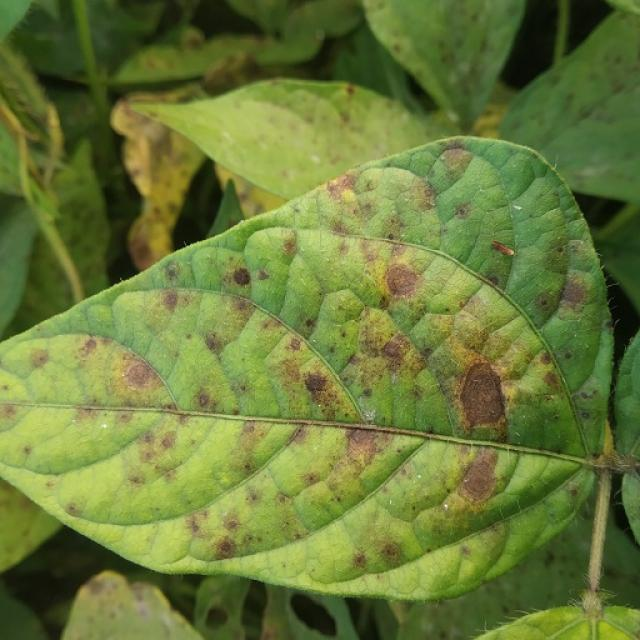Anthracnose: (442, 356, 516, 434), (457, 449, 501, 503), (384, 262, 420, 299), (122, 357, 160, 391), (438, 147, 474, 177), (326, 172, 359, 202), (559, 276, 589, 308), (346, 428, 379, 457), (303, 371, 332, 396), (381, 337, 407, 360), (204, 331, 226, 354), (77, 336, 99, 357), (214, 538, 236, 558), (29, 348, 50, 368), (231, 267, 251, 286), (380, 542, 400, 561), (491, 241, 515, 256), (162, 291, 180, 309), (283, 235, 297, 255), (454, 203, 471, 218), (196, 393, 211, 408), (165, 264, 178, 280), (65, 503, 80, 516), (353, 554, 367, 567), (256, 268, 270, 281), (487, 275, 499, 286), (361, 388, 372, 398), (569, 487, 579, 497), (563, 351, 573, 360), (580, 409, 590, 418), (305, 319, 314, 328), (386, 233, 395, 241), (556, 245, 564, 253), (231, 408, 240, 415)
Blackgram: (0, 139, 639, 600)
